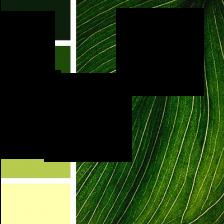green: (75, 0, 224, 224), (0, 46, 69, 86), (0, 92, 69, 132)
